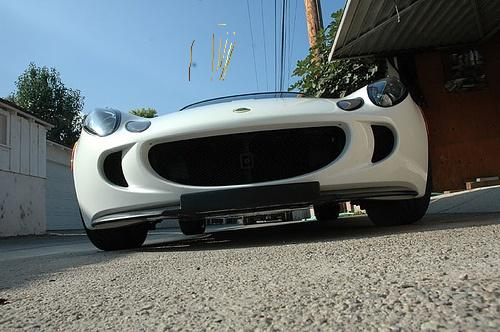tampered: (190, 25, 235, 81)
